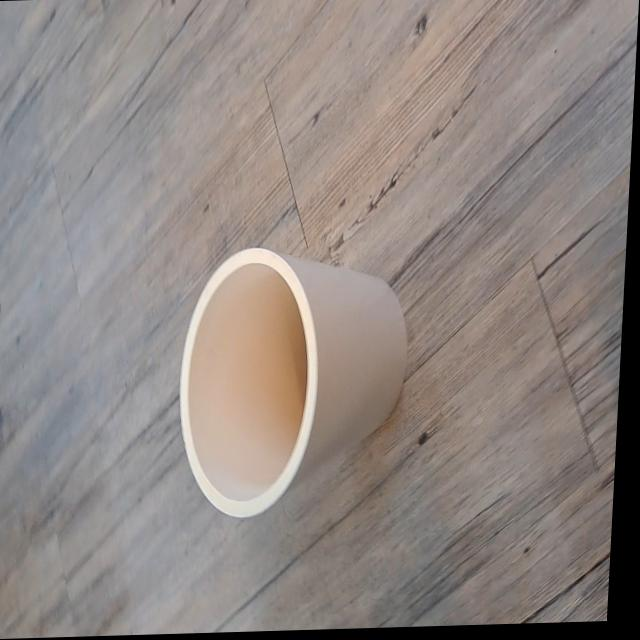CORAL: (153, 218, 438, 554)
